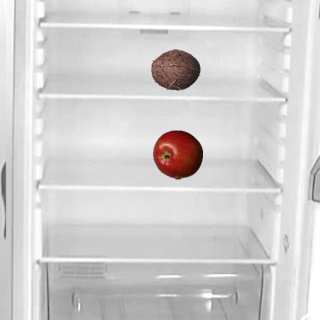Apple Braeburn: (152, 129, 202, 179)
Cocos: (150, 44, 200, 94)
